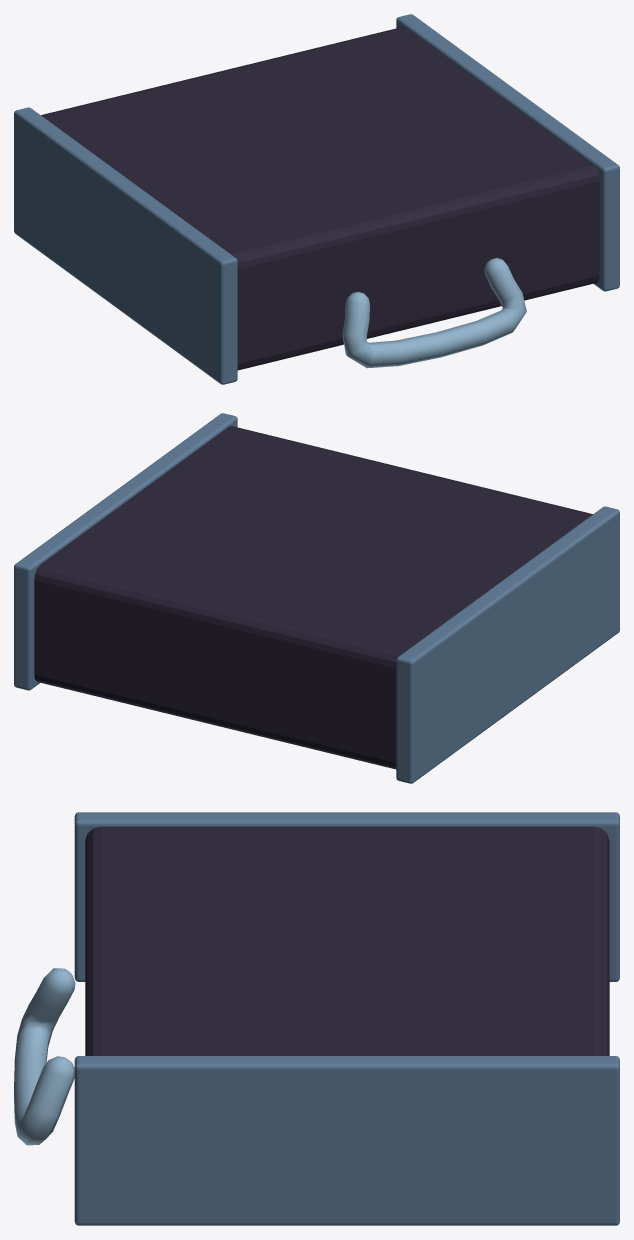
The model's file is filter_cartridge.glb.
3 views of the same model, one above another, from view 1: azimuth 30°, elevation 25°; view 2: azimuth 150°, elevation 25°; view 3: azimuth 270°, elevation 25° (orthographic). The views are drawn at different scales.
Visible parts, largest first — view 1: Charcoal_body, Metal_side, Pull_handle, Metal_side.001; view 2: Charcoal_body, Metal_side, Metal_side.001; view 3: Charcoal_body, Metal_side.001, Metal_side, Pull_handle.
Part boxes in pixels (x1=…): Charcoal_body: x1=41, y1=27, x2=599, y2=370; Metal_side: x1=14, y1=107, x2=237, y2=384; Pull_handle: x1=342, y1=257, x2=526, y2=368; Metal_side.001: x1=396, y1=14, x2=619, y2=291; Charcoal_body: x1=34, y1=426, x2=592, y2=769; Metal_side: x1=396, y1=506, x2=619, y2=783; Metal_side.001: x1=14, y1=413, x2=237, y2=690; Charcoal_body: x1=85, y1=826, x2=609, y2=1055; Metal_side.001: x1=74, y1=1056, x2=619, y2=1225; Metal_side: x1=74, y1=812, x2=619, y2=981; Pull_handle: x1=14, y1=968, x2=75, y2=1145.
Bounding box in the file's own units: 0.575 × 0.1773 × 0.5779.
